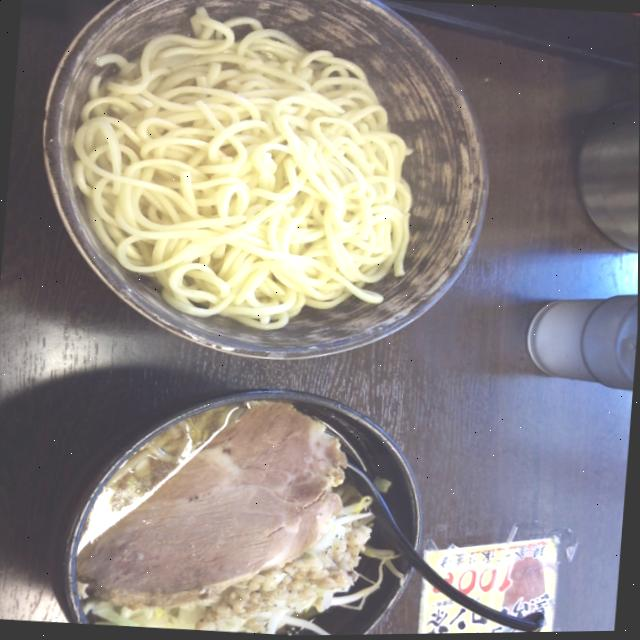面条主食: (346, 0, 580, 351)
